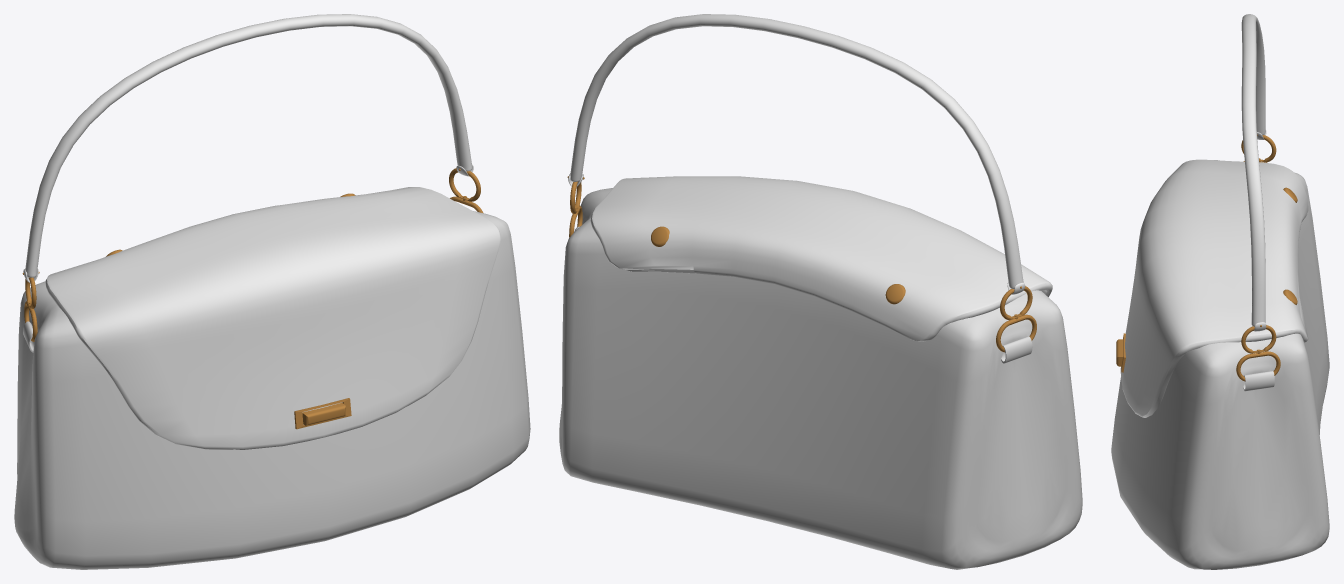
File: Handbag.fbx
The picture shows the model from 3 angles, left to right: view 1: azimuth 30°, elevation 25°; view 2: azimuth 150°, elevation 25°; view 3: azimuth 270°, elevation 25°; orthographic projection. The views are drawn at different scales.
Parts seen in each view (by area): view 1: HandBag; view 2: HandBag; view 3: HandBag.
Boxes of the visible parts, x1=… form: HandBag: x1=14, y1=14, x2=530, y2=569; HandBag: x1=559, y1=14, x2=1082, y2=569; HandBag: x1=1111, y1=14, x2=1329, y2=569.
Bounding box in the file's own units: 182 × 166 × 78.28.
